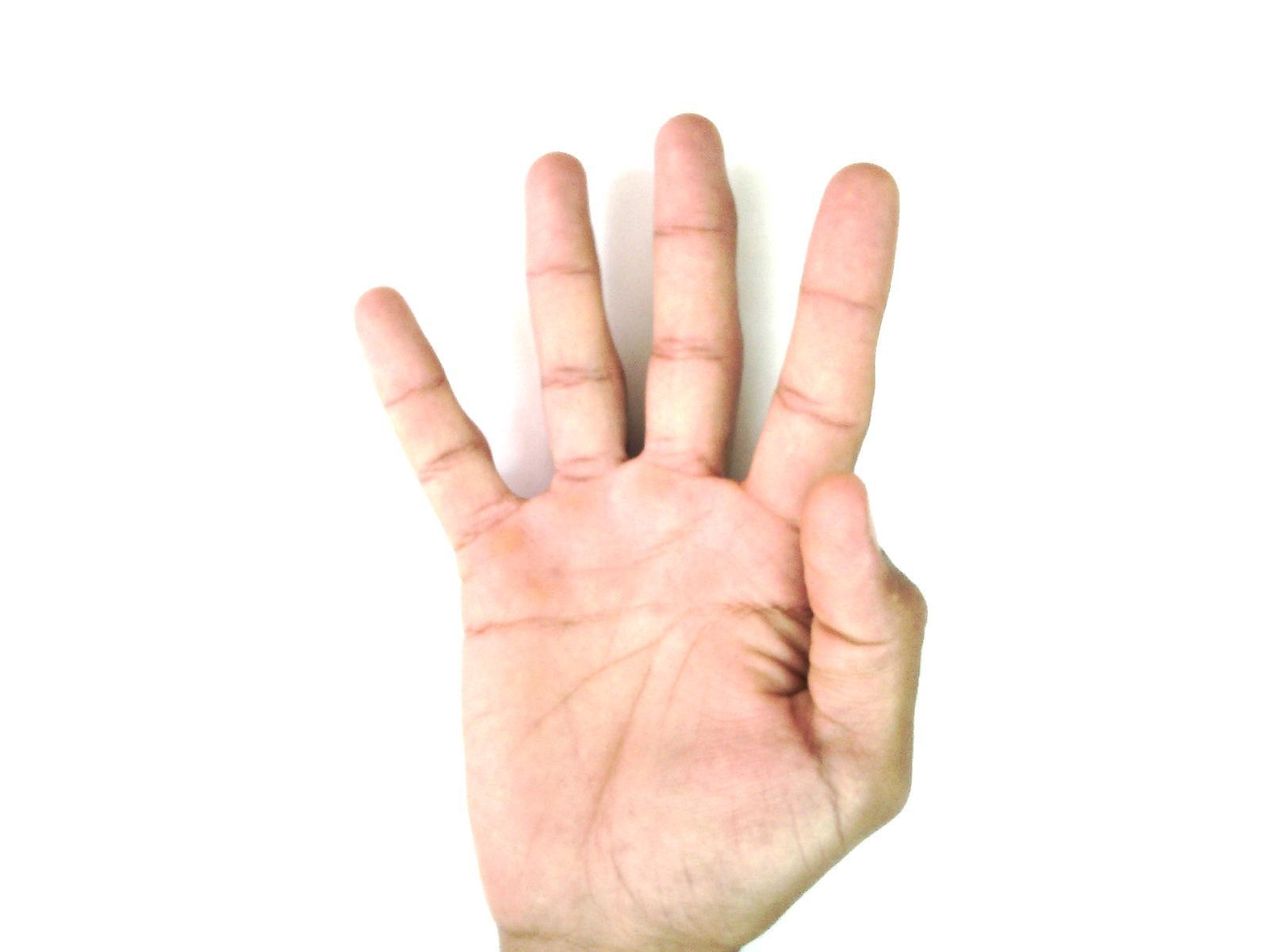open_palm: (351, 112, 931, 950)
